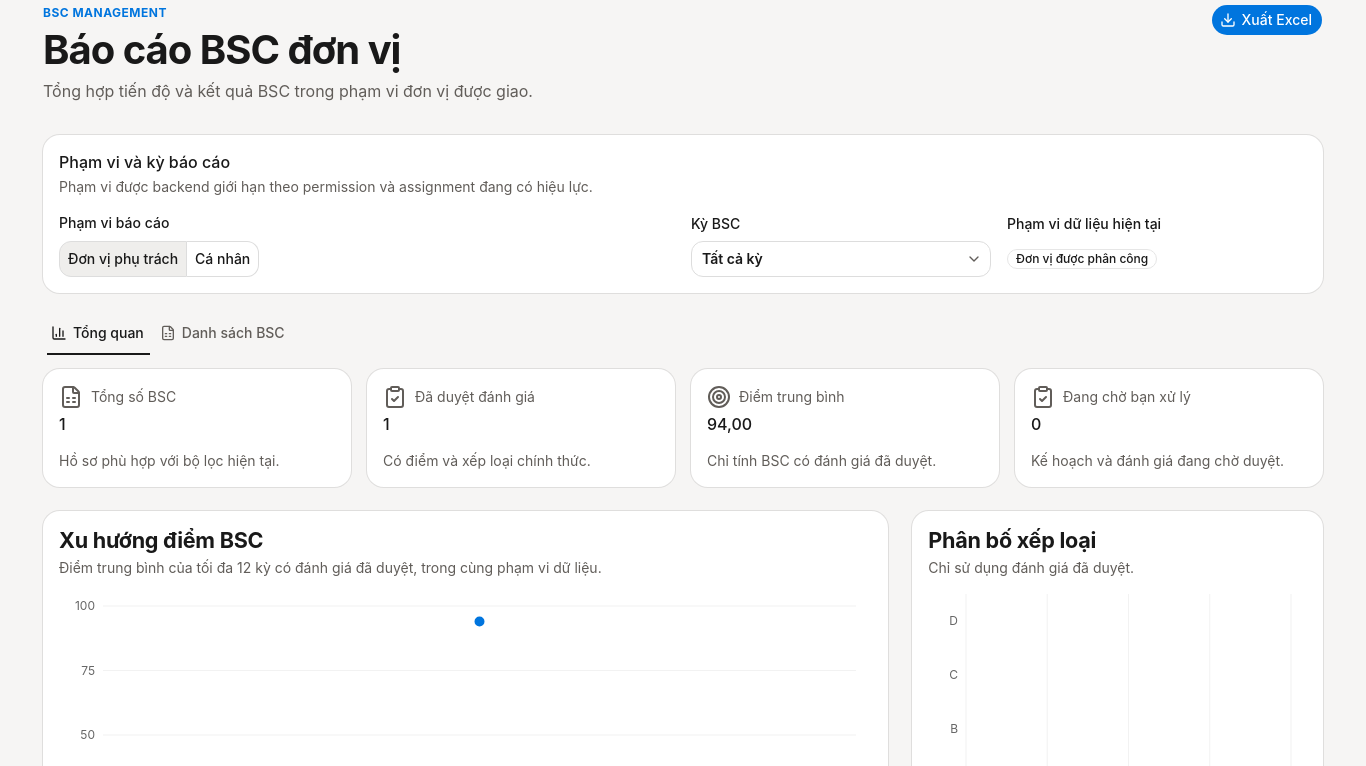
Test case: BscReportPage desktop report › uses a searchable employee combobox and collapsible advanced filters for management
Click the tab "Danh sách BSC" at (223,333), box top-left (155, 315), bottom-right (292, 351)
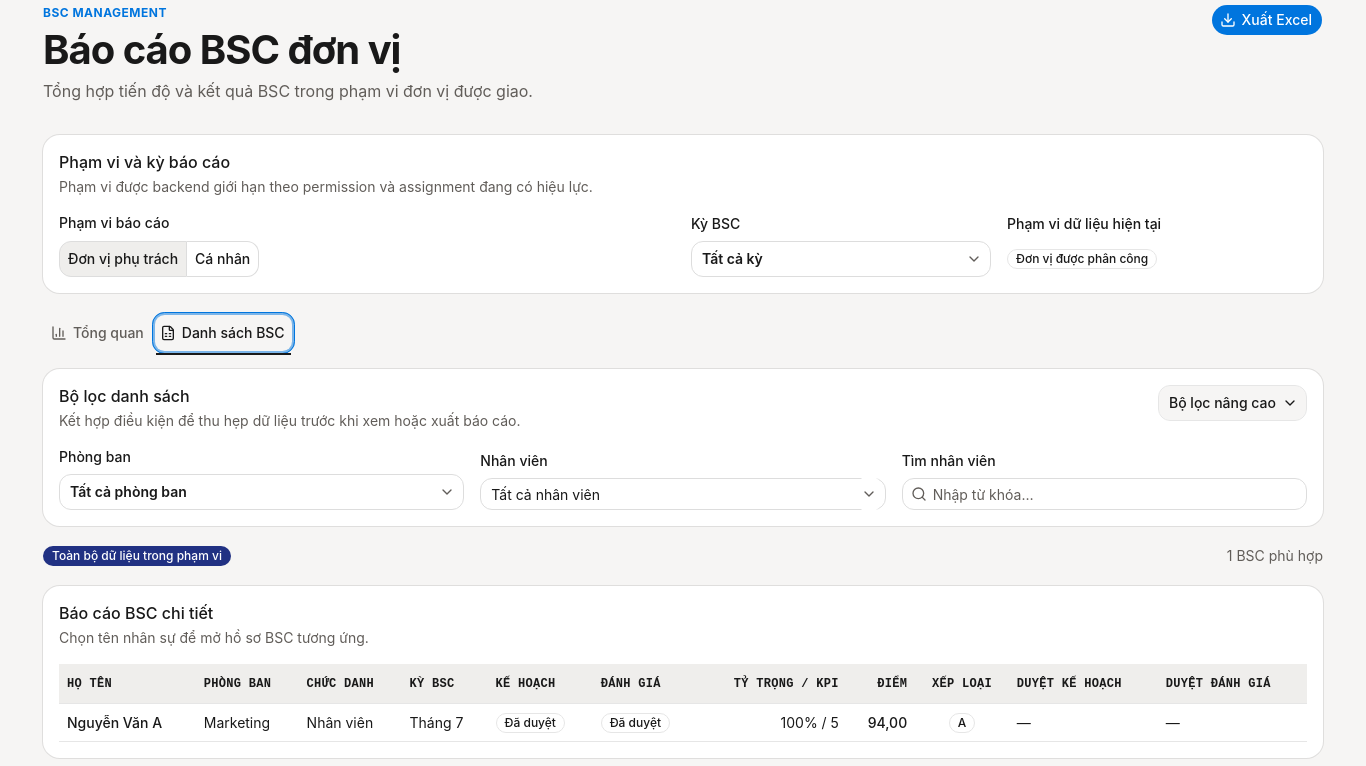
Replace the text in the dropdown labelled "Nhân viên" with "NV001" at (669,494), box top-left (481, 474), bottom-right (857, 514)
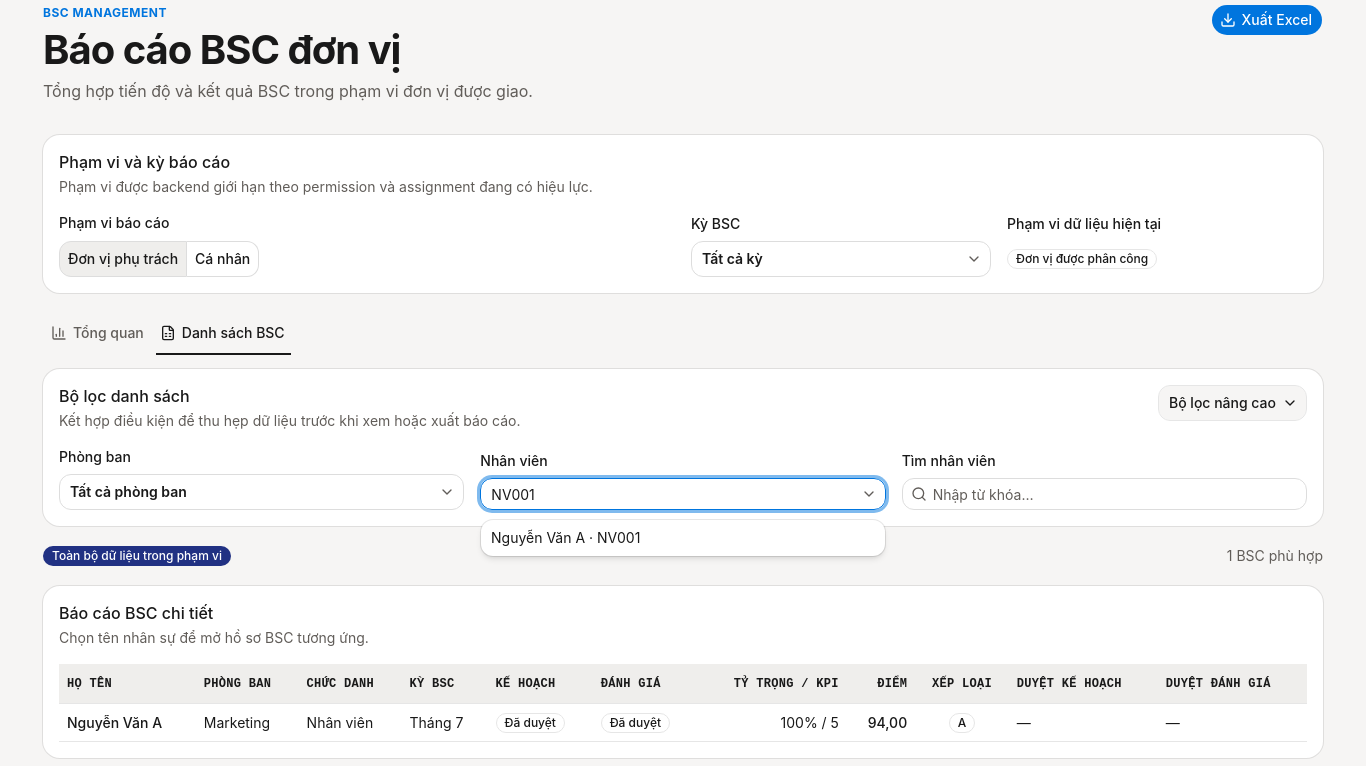
Click the option "Nguyễn Văn A · NV001" at (566,538), box top-left (491, 529), bottom-right (640, 546)
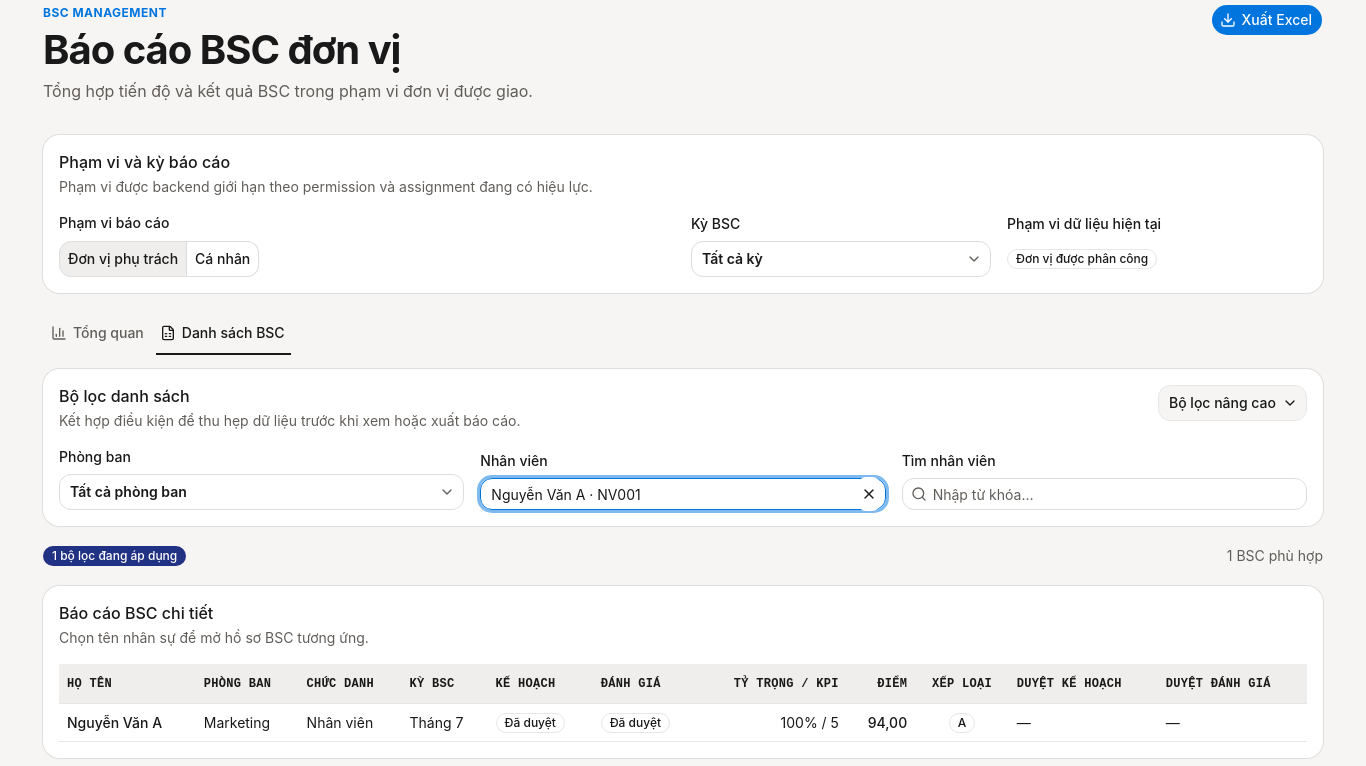
Expected: the field labelled "Trạng thái kế hoạch" is not shown
Click the button "Bộ lọc nâng cao" at (1232,403), box top-left (1158, 385), bottom-right (1307, 421)
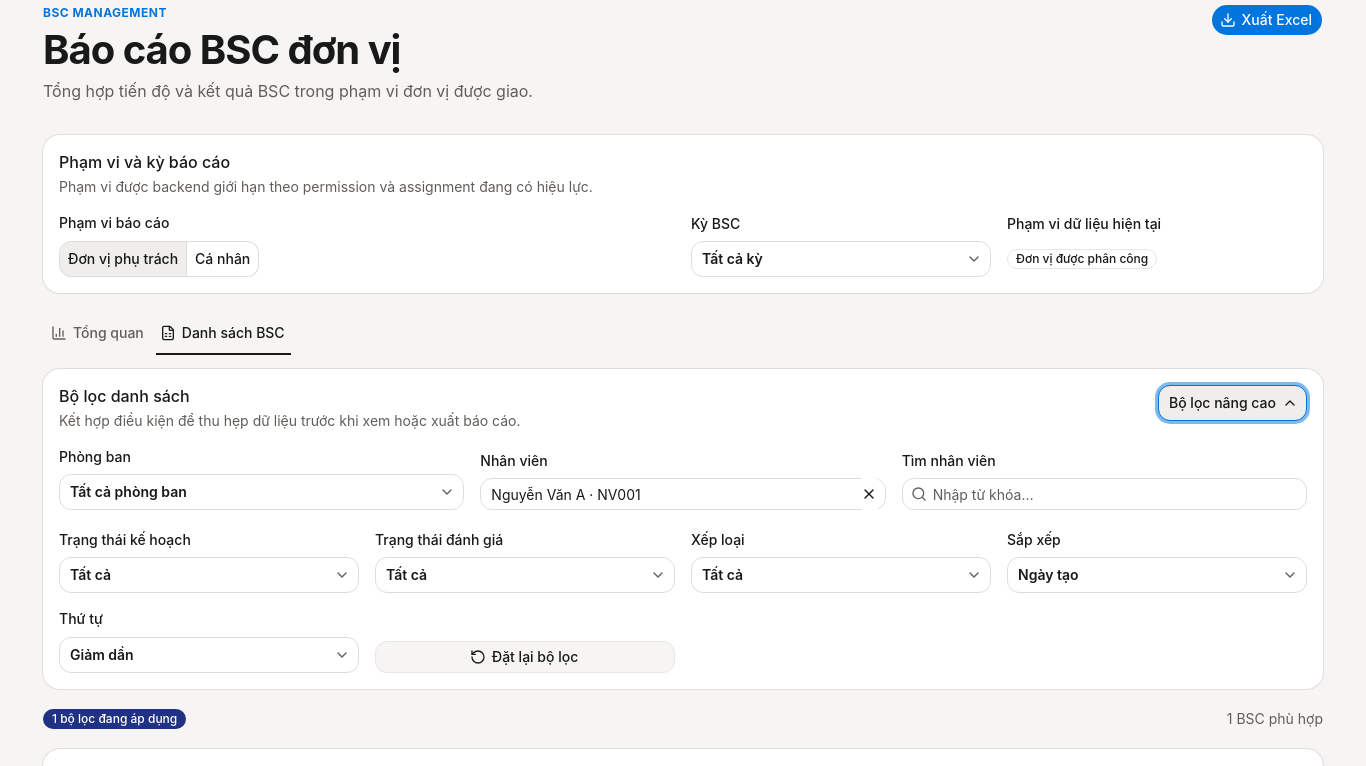
Now the dropdown named "Trạng thái kế hoạch" is shown, box top-left (59, 557), bottom-right (359, 593)
Click the dropdown named "Xếp loại" at (723,575), box top-left (691, 557), bottom-right (991, 593)
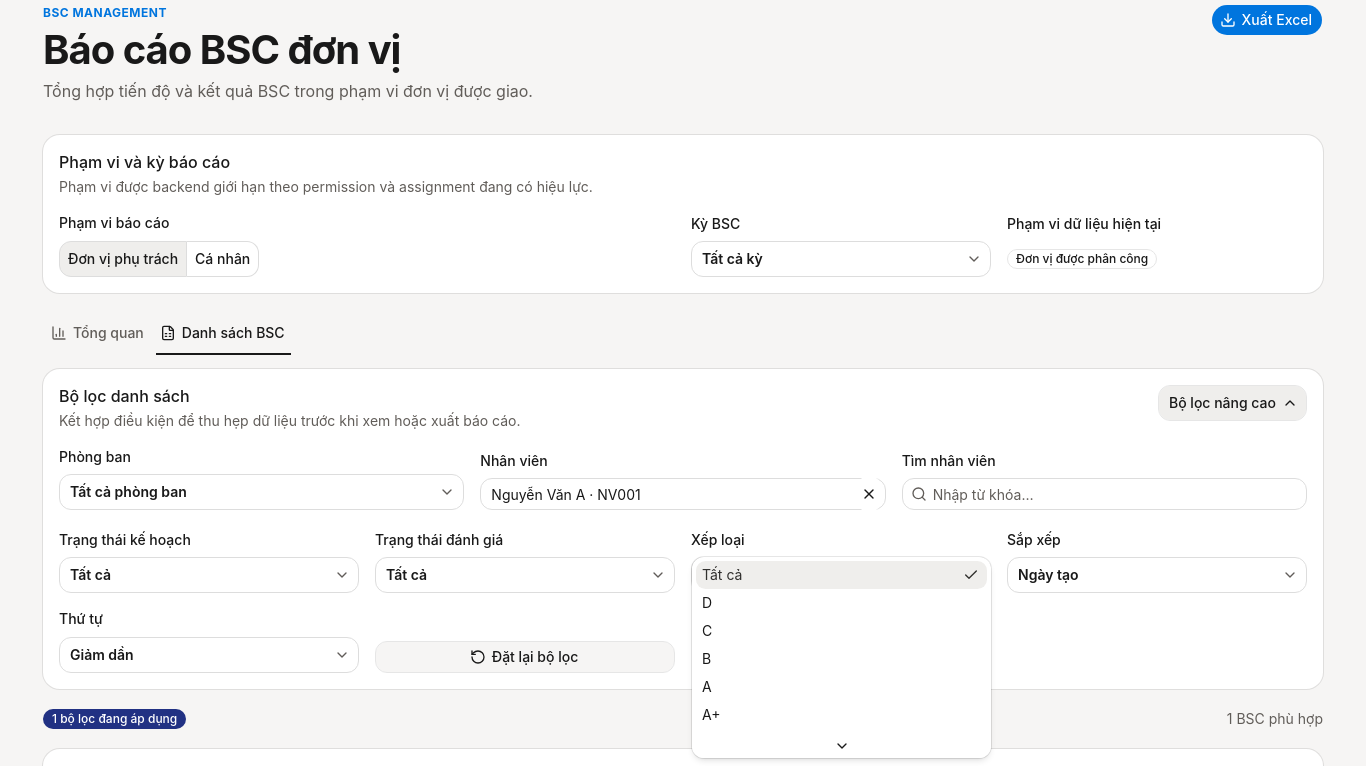
Now the option "D" is shown, box top-left (702, 594), bottom-right (712, 611)
